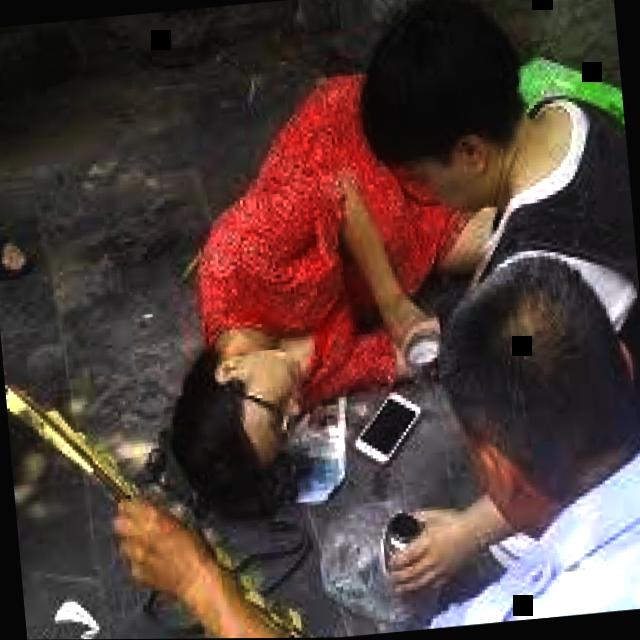Fall-Detected: (93, 33, 548, 519)
